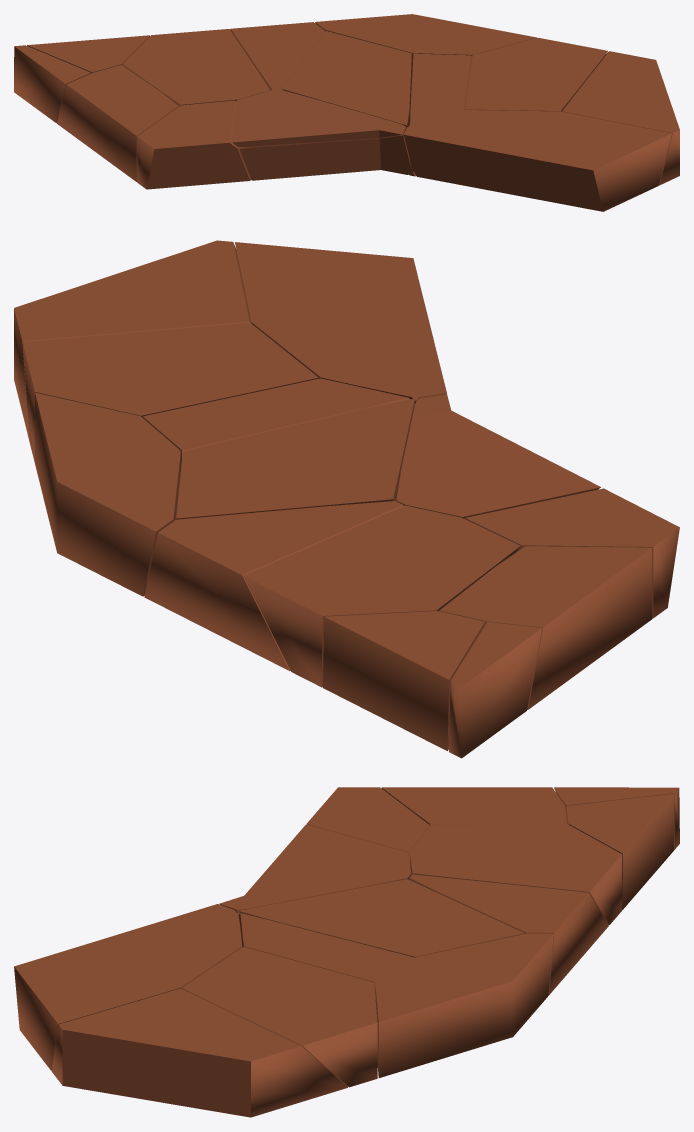
Rendered from tree_debris.fbx.
3 views of the same model, one above another, from view 1: azimuth 30°, elevation 25°; view 2: azimuth 150°, elevation 25°; view 3: azimuth 270°, elevation 25° (orthographic). The views are drawn at different scales.
Visible parts, largest first — view 1: TreePiece.003_cell.008, TreePiece.003_cell, TreePiece.003_cell.013, TreePiece.003_cell.005, TreePiece.003_cell.004, TreePiece.003_cell.010, TreePiece.003_cell.014, TreePiece.003_cell.011, TreePiece.003_cell.002, TreePiece.003_cell.001, TreePiece.003_cell.006, TreePiece.003_cell.009 (+2 smaller); view 2: TreePiece.003_cell.008, TreePiece.003_cell.004, TreePiece.003_cell.001, TreePiece.003_cell.005, TreePiece.003_cell, TreePiece.003_cell.010, TreePiece.003_cell.009, TreePiece.003_cell.011, TreePiece.003_cell.012, TreePiece.003_cell.014, TreePiece.003_cell.013, TreePiece.003_cell.006 (+1 smaller); view 3: TreePiece.003_cell.011, TreePiece.003_cell.001, TreePiece.003_cell.008, TreePiece.003_cell.005, TreePiece.003_cell.004, TreePiece.003_cell, TreePiece.003_cell.014, TreePiece.003_cell.009, TreePiece.003_cell.012, TreePiece.003_cell.010, TreePiece.003_cell.006, TreePiece.003_cell.013 (+1 smaller).
Part boxes in pixels (x1,y1,x2,y2): TreePiece.003_cell.008: [404, 110, 671, 211]; TreePiece.003_cell: [282, 31, 411, 126]; TreePiece.003_cell.013: [137, 100, 251, 189]; TreePiece.003_cell.005: [465, 37, 607, 111]; TreePiece.003_cell.004: [122, 29, 269, 106]; TreePiece.003_cell.010: [56, 65, 178, 181]; TreePiece.003_cell.014: [231, 89, 406, 147]; TreePiece.003_cell.011: [561, 51, 679, 185]; TreePiece.003_cell.002: [239, 135, 411, 180]; TreePiece.003_cell.001: [315, 14, 536, 56]; TreePiece.003_cell.006: [406, 53, 472, 176]; TreePiece.003_cell.009: [230, 22, 324, 90]; TreePiece.003_cell.008: [235, 242, 446, 403]; TreePiece.003_cell.004: [243, 505, 520, 687]; TreePiece.003_cell.001: [35, 392, 180, 596]; TreePiece.003_cell.005: [22, 322, 318, 462]; TreePiece.003_cell: [176, 398, 414, 519]; TreePiece.003_cell.010: [439, 546, 652, 709]; TreePiece.003_cell.009: [144, 501, 403, 670]; TreePiece.003_cell.011: [14, 240, 251, 442]; TreePiece.003_cell.012: [323, 611, 484, 750]; TreePiece.003_cell.014: [396, 394, 600, 518]; TreePiece.003_cell.013: [464, 488, 679, 618]; TreePiece.003_cell.006: [142, 378, 414, 477]; TreePiece.003_cell.011: [51, 988, 347, 1117]; TreePiece.003_cell.001: [375, 933, 553, 1077]; TreePiece.003_cell.008: [14, 904, 242, 1069]; TreePiece.003_cell.005: [182, 946, 377, 1087]; TreePiece.003_cell.004: [409, 824, 622, 924]; TreePiece.003_cell: [239, 879, 524, 957]; TreePiece.003_cell.014: [219, 824, 411, 914]; TreePiece.003_cell.009: [408, 874, 608, 995]; TreePiece.003_cell.012: [566, 793, 674, 909]; TreePiece.003_cell.010: [381, 787, 568, 826]; TreePiece.003_cell.006: [238, 913, 413, 997]; TreePiece.003_cell.013: [306, 787, 429, 865].
Size of the model in its own units: 82.79 by 8.16 by 84.37.
